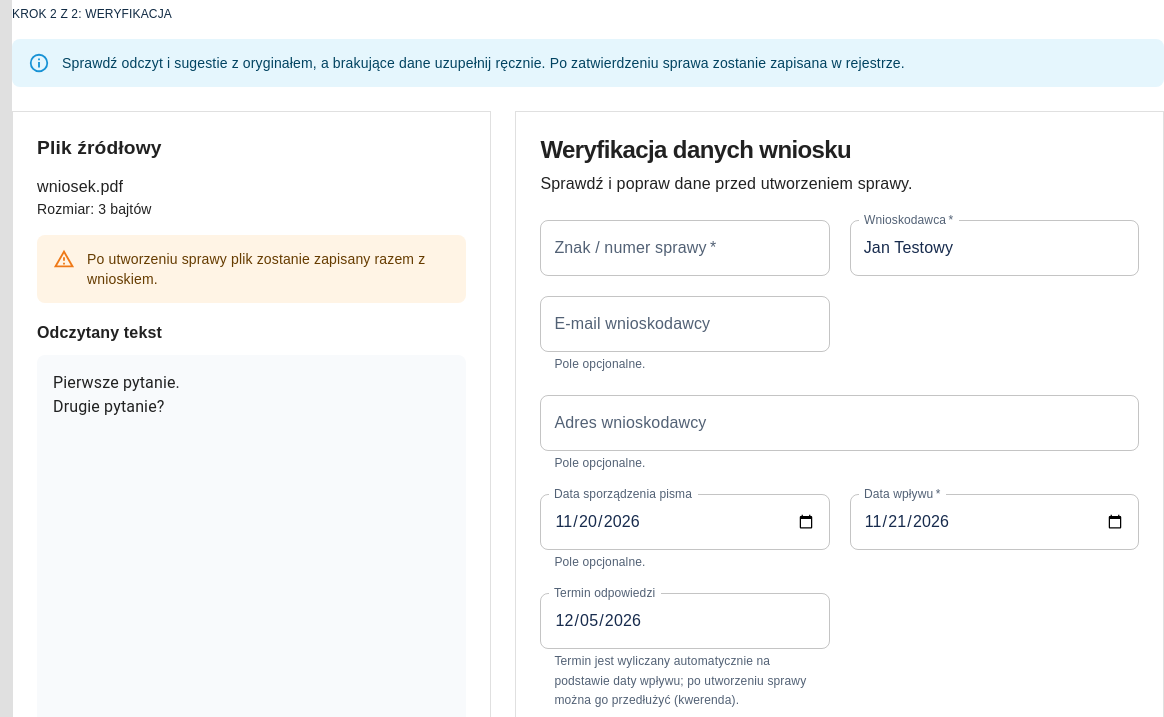
Test: request verification › 409 marks the case number as taken on the number field
In the field labelled "Znak / numer sprawy *": (685, 248) [540,220,830,276], type "A/1"
(page scrolled)
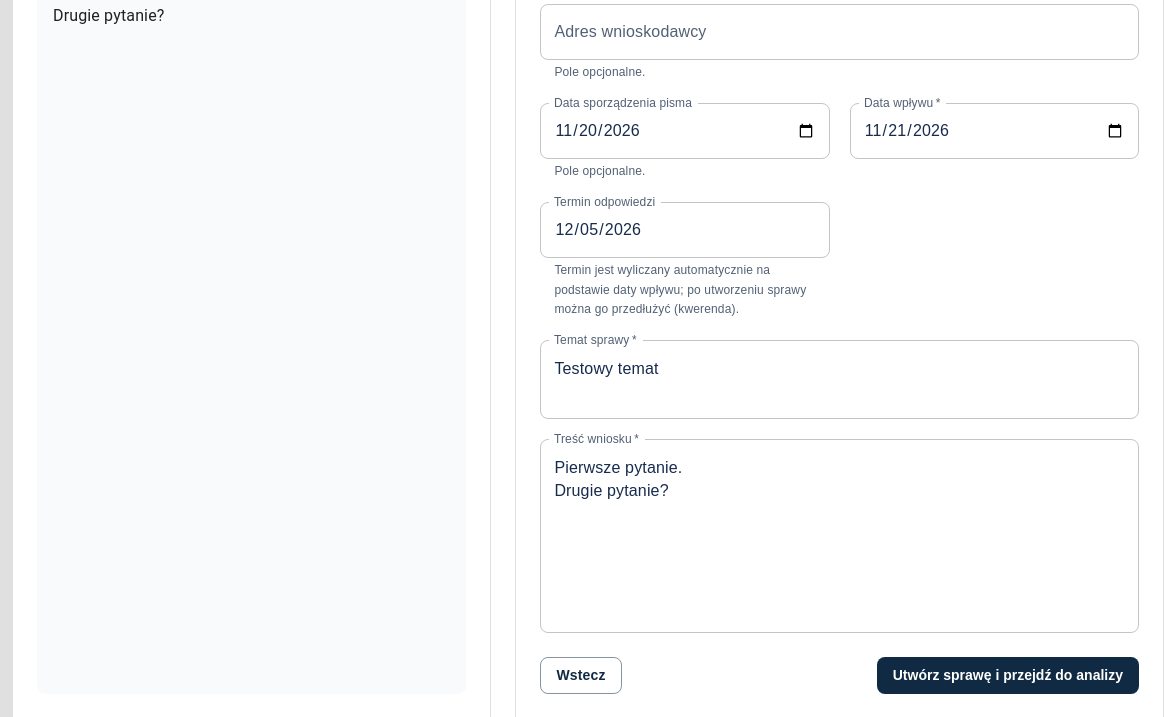
Click the button "Utwórz sprawę i przejdź do analizy": click(1008, 676) [877,657,1139,694]
(page scrolled)
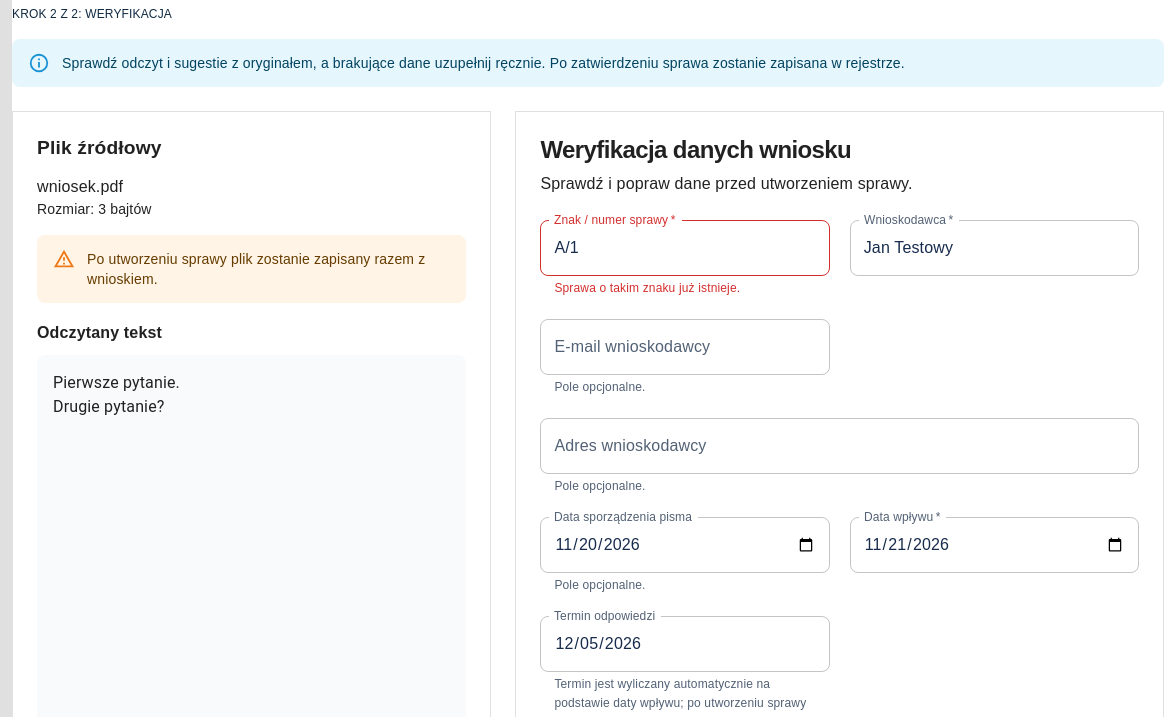
Expected: the text "Sprawa o takim znaku już istnieje." is shown, [554,281,740,295]
